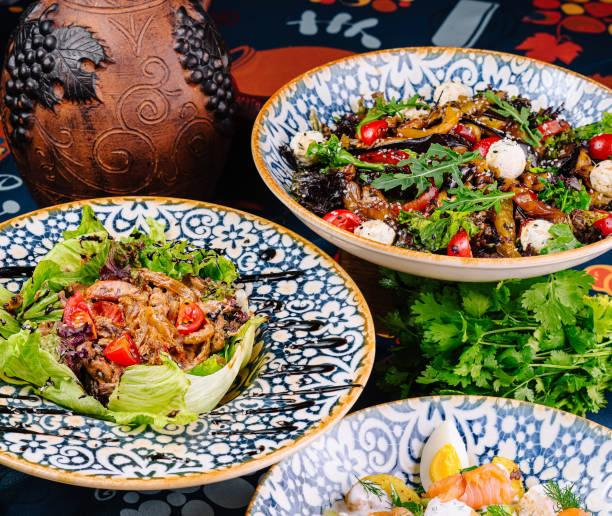Braised Crucian Carp: (2, 197, 363, 489), (254, 48, 604, 282)
